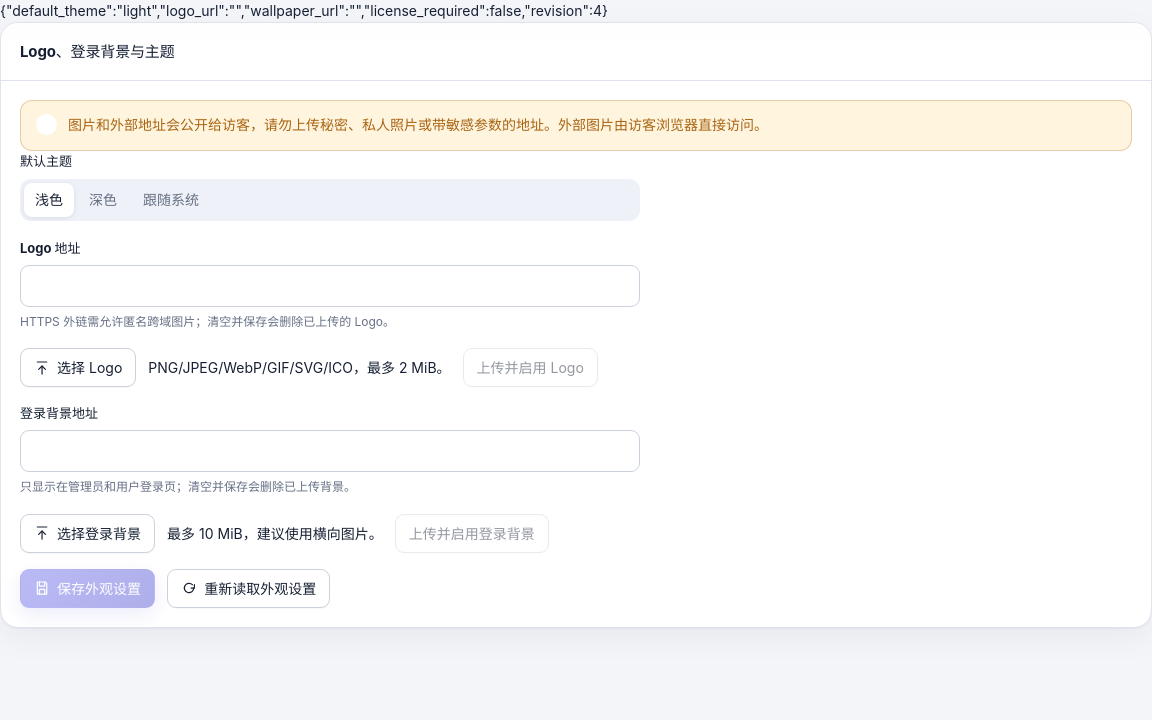
Test: appearance administration › reconciles an unknown outcome with one GET and never retries the write
Click the text "深色" at (103, 200), box [89, 189, 117, 210]
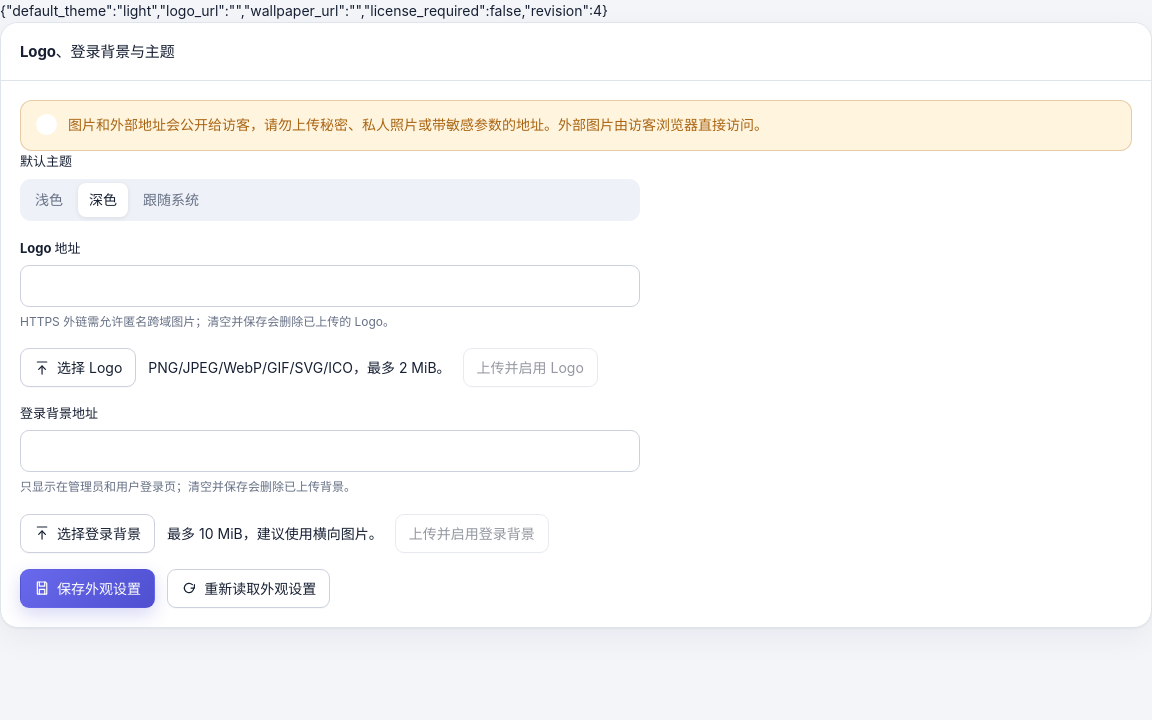
Click the button "保存外观设置" at (88, 588), box [20, 569, 155, 608]
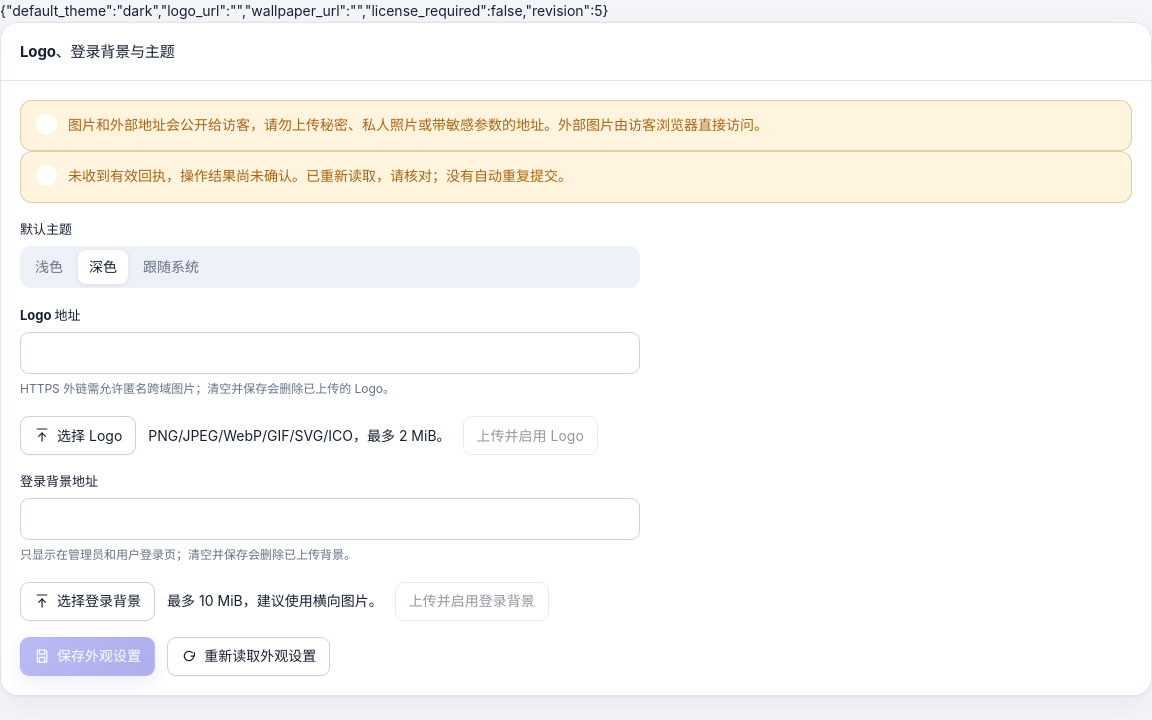
Result: the text "未收到有效回执，操作结果尚未确认。已重新读取，请核对；没有自动重复提交。" is shown at [68, 167, 572, 184]
